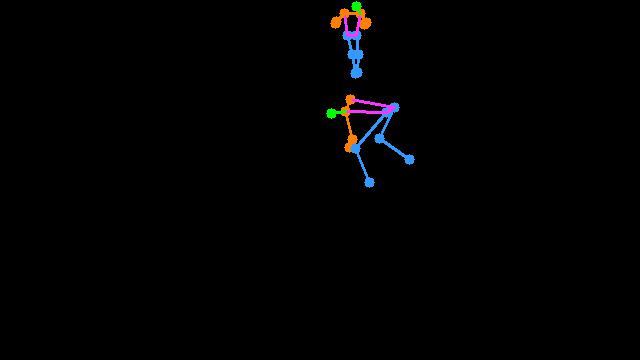normal: (321, 1, 382, 86)
